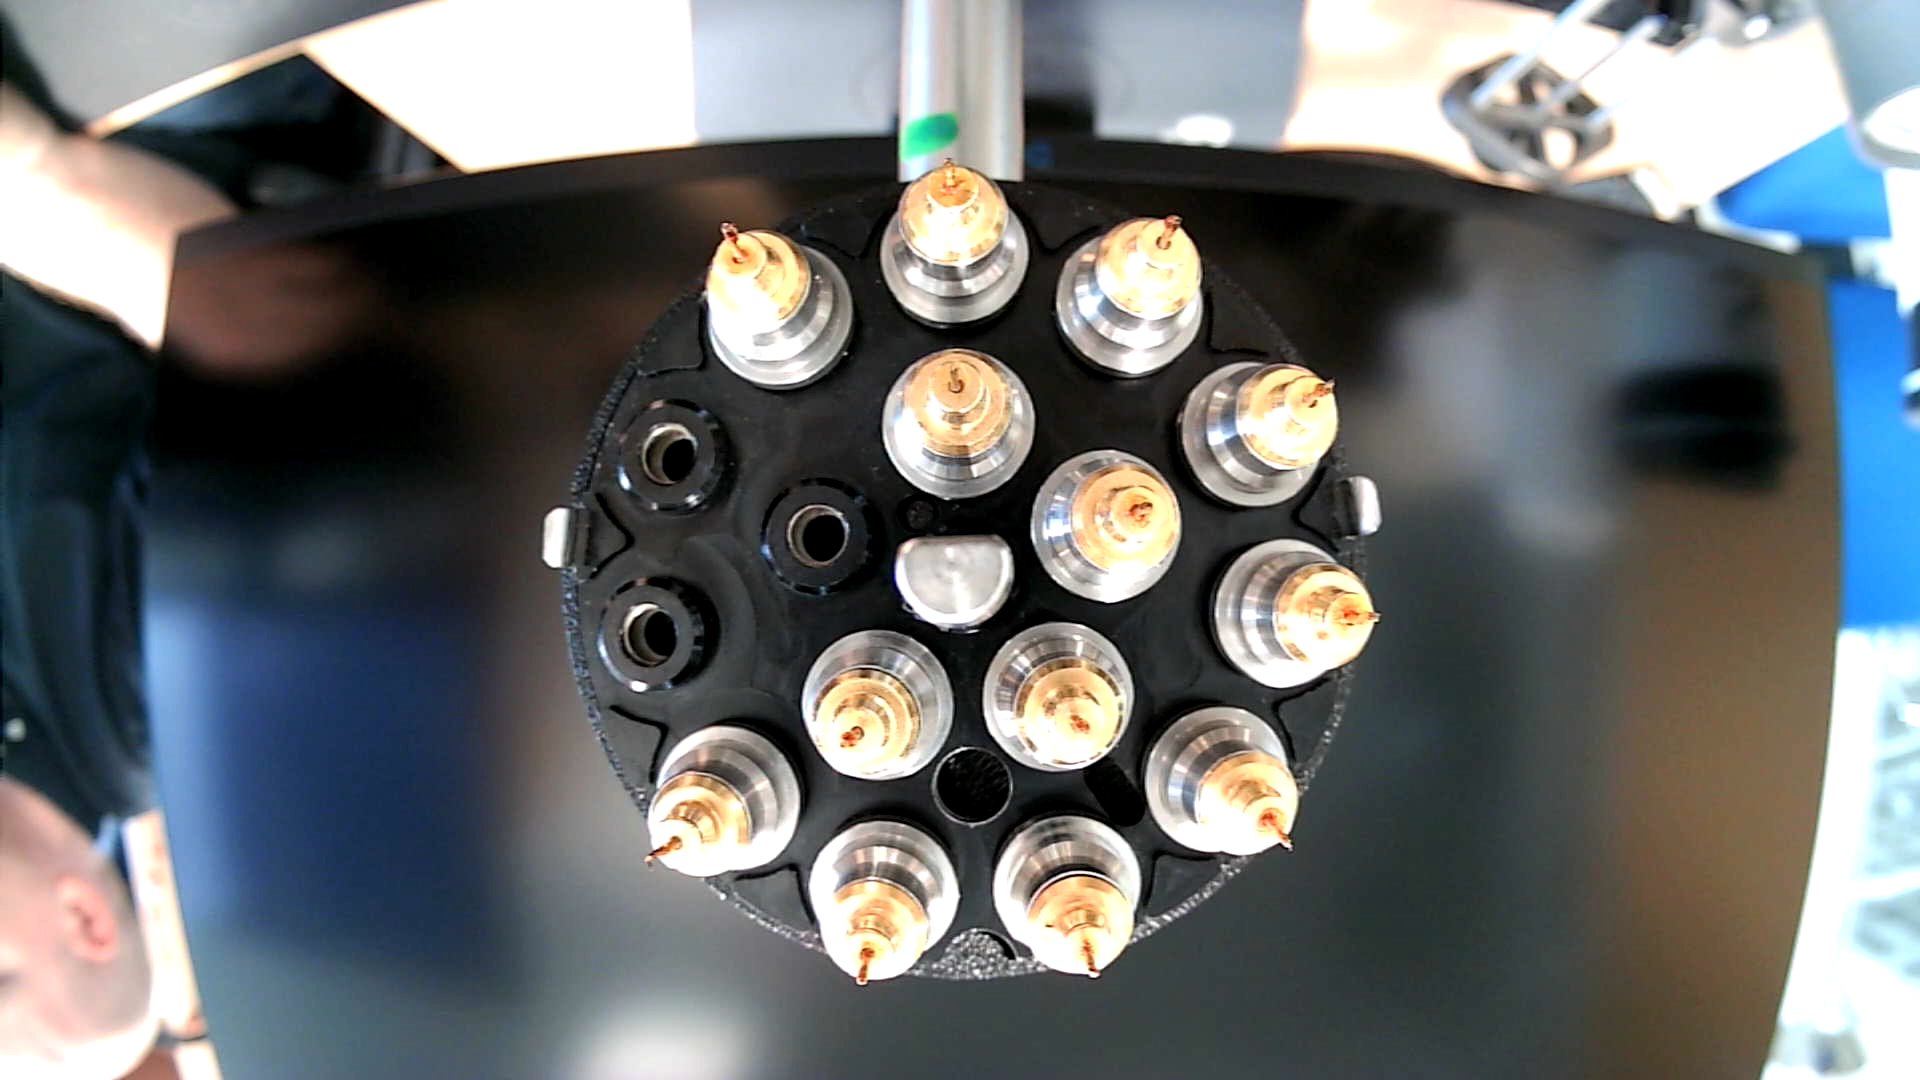empty: (595, 574, 723, 695), (761, 475, 885, 599), (611, 400, 735, 520)
hole: (931, 745, 1017, 829)
pin: (990, 808, 1145, 986), (806, 818, 963, 992), (880, 157, 1033, 331), (1054, 208, 1207, 382), (700, 220, 855, 392), (1215, 535, 1383, 690), (644, 724, 803, 882), (1029, 447, 1185, 607), (978, 620, 1138, 777), (1139, 703, 1302, 857), (880, 347, 1039, 502), (1178, 360, 1341, 512), (800, 629, 955, 785)
rod: (891, 527, 1021, 637)
